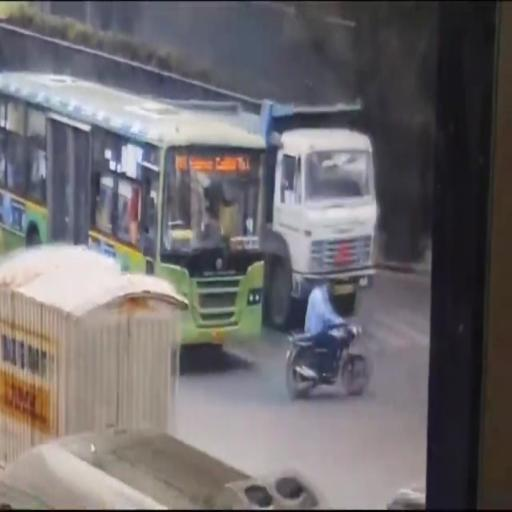小汽车: (4, 74, 262, 344), (253, 92, 374, 328)
自行车: (286, 273, 370, 406)
